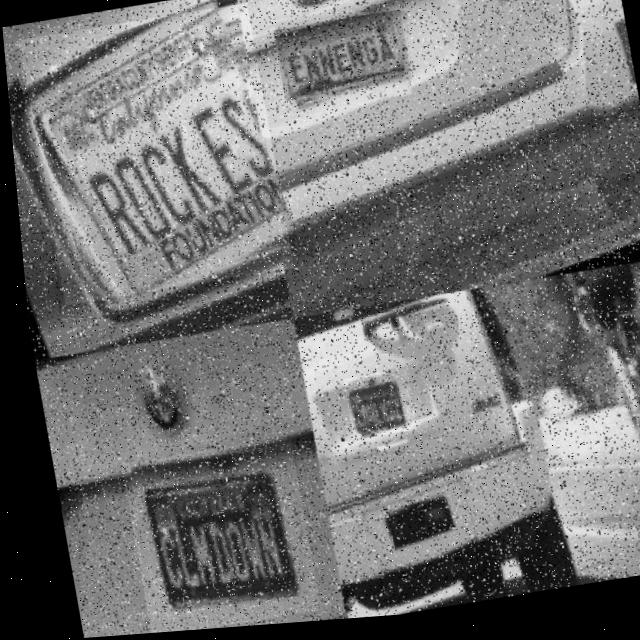LicensePlate: (16, 5, 290, 307), (111, 440, 309, 635), (274, 16, 408, 103), (334, 374, 409, 444)
